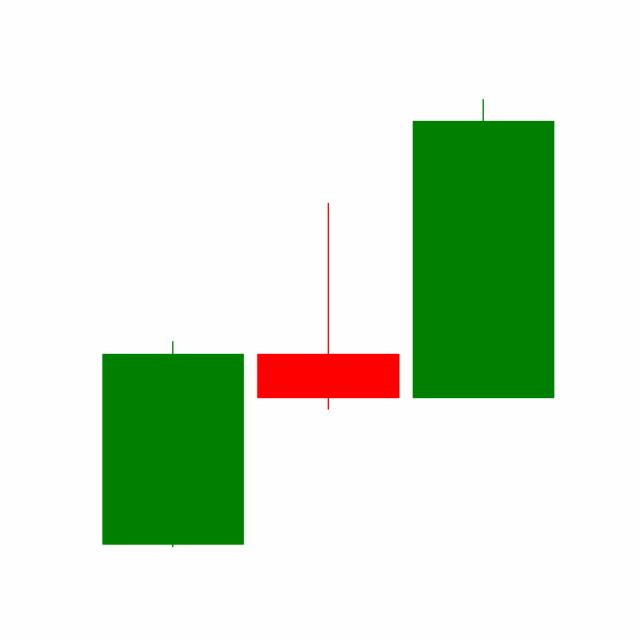Marubozu: (405, 96, 561, 402)
